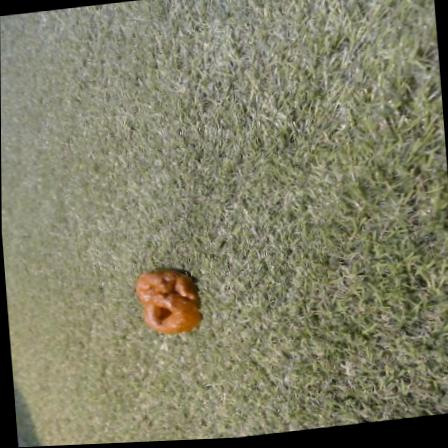dog-poop: (129, 262, 204, 344)
